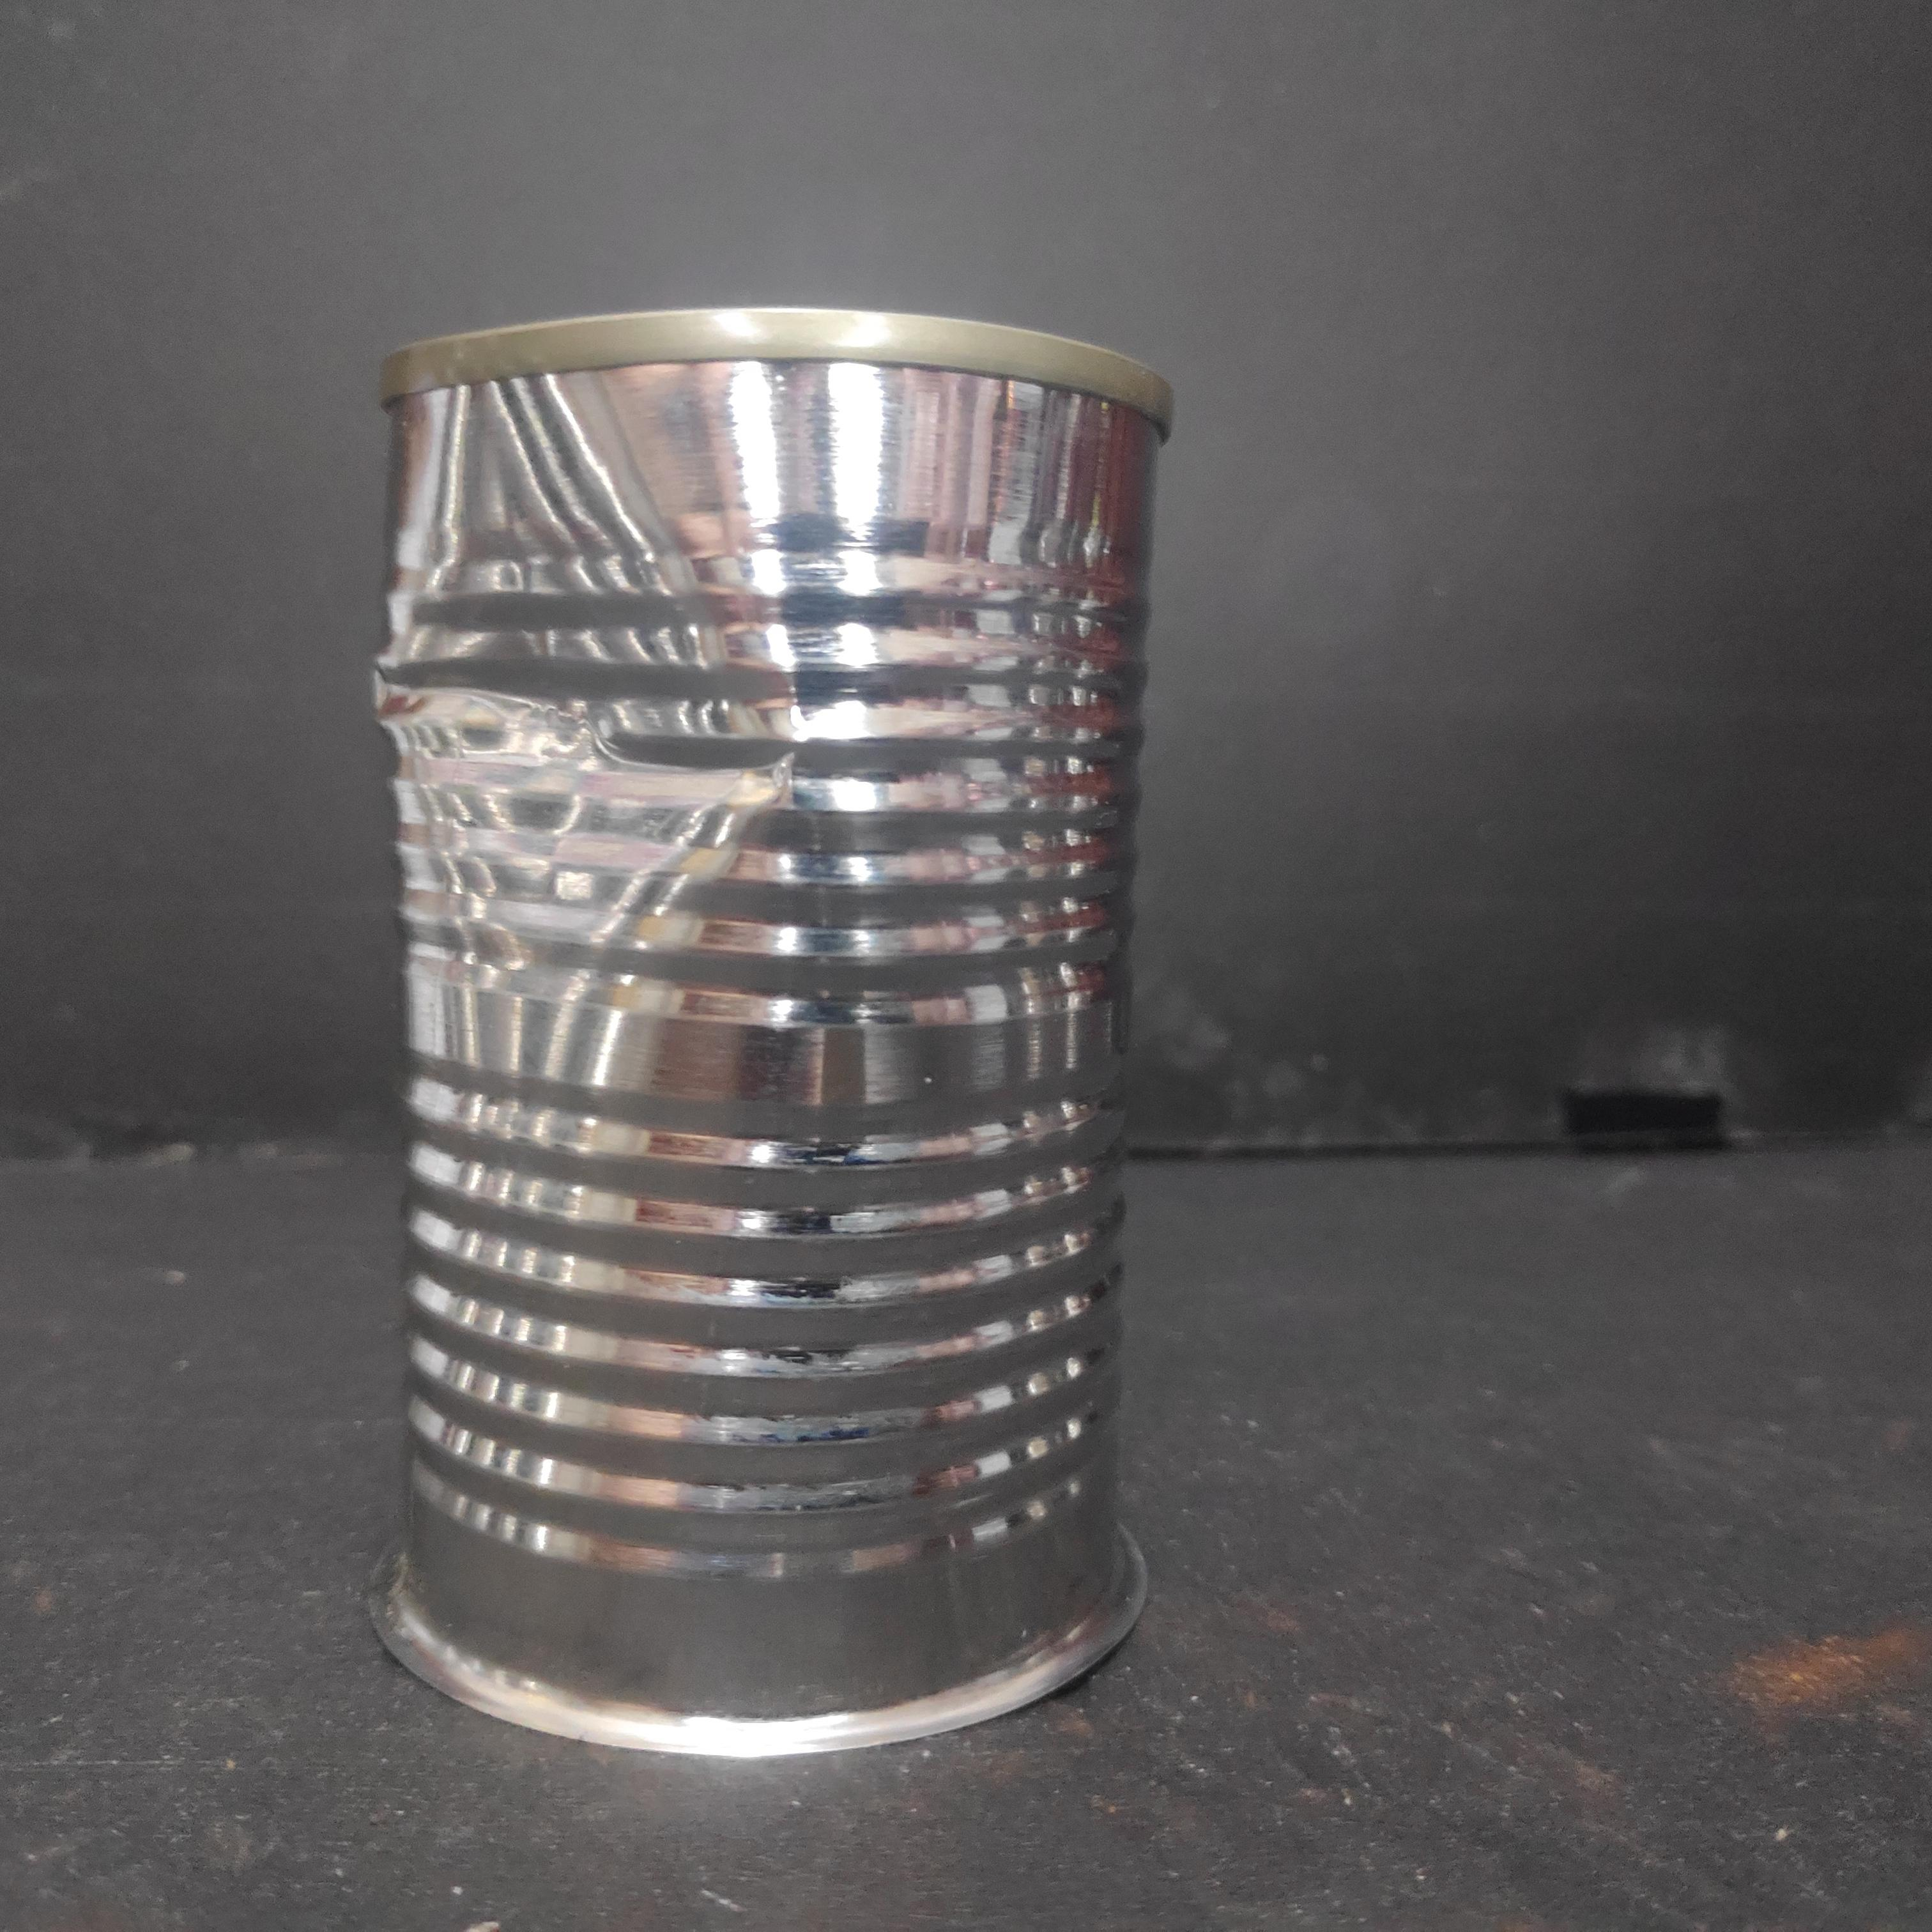Minor Defect: (363, 311, 1177, 1771)
